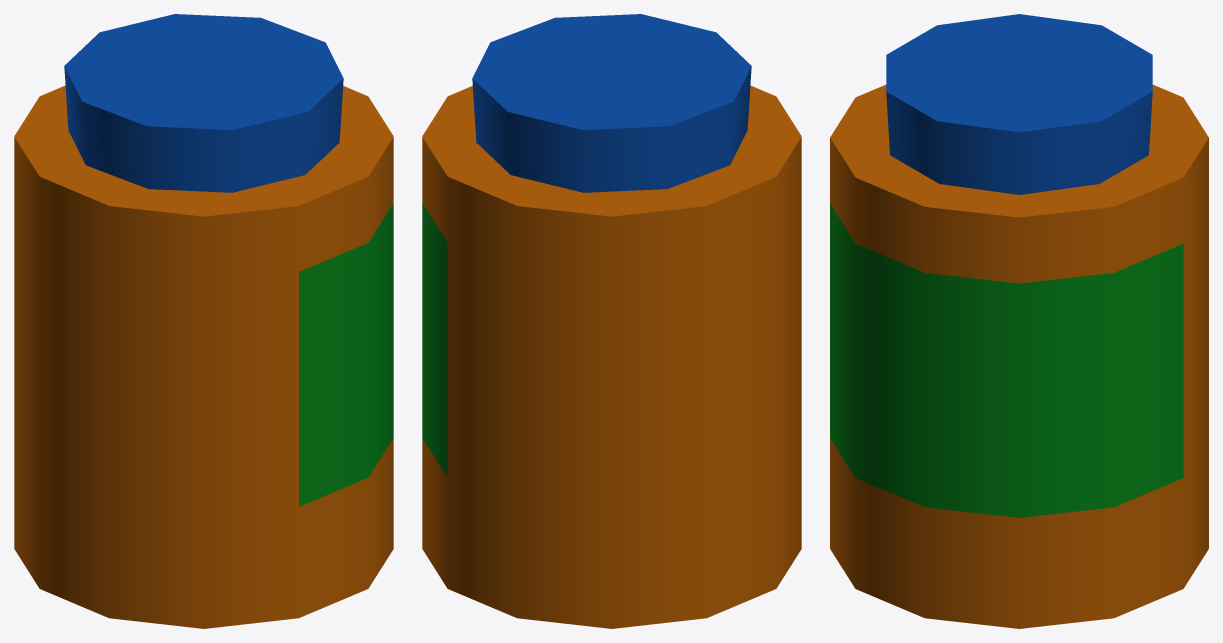
File: jar_iam_01.fbx
The picture shows the model from 3 angles, left to right: view 1: azimuth 30°, elevation 25°; view 2: azimuth 150°, elevation 25°; view 3: azimuth 270°, elevation 25°; orthographic projection.
Parts seen in each view (by area): view 1: jar_iam_01; view 2: jar_iam_01; view 3: jar_iam_01.
Boxes of the visible parts, bbox=[...] form: jar_iam_01: bbox=[14, 14, 393, 628]; jar_iam_01: bbox=[422, 14, 801, 628]; jar_iam_01: bbox=[830, 14, 1208, 628].
Size of the model in its own units: 37.63 by 52.15 by 37.63.
